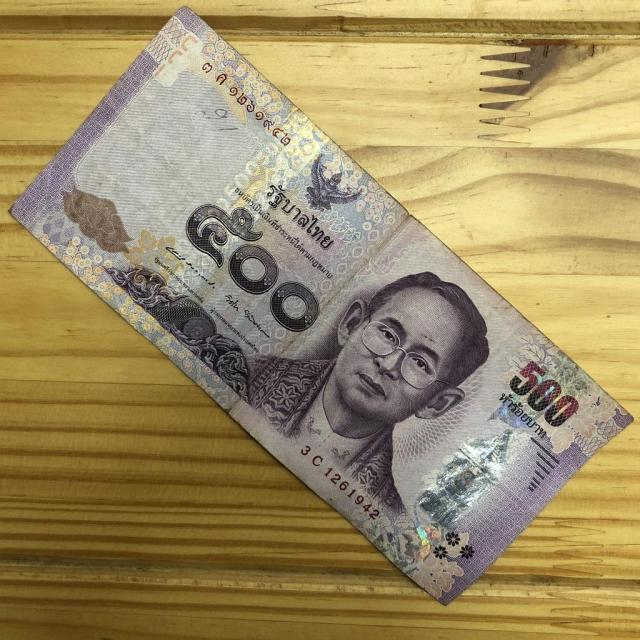THAI500: (9, 7, 633, 608)
